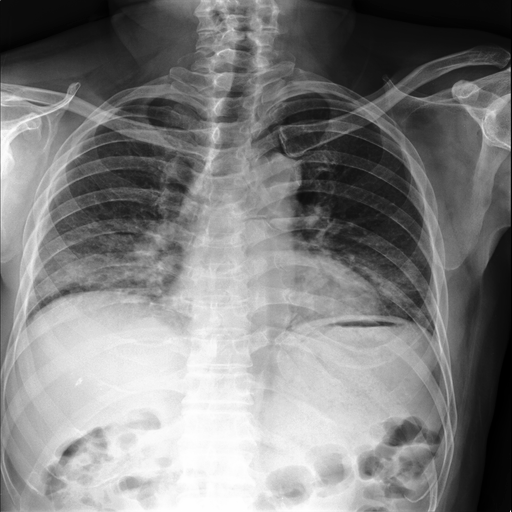Consolidation: (242, 154, 300, 194)
ILD: (29, 242, 173, 292)
Nodule/Mass: (167, 275, 389, 315)
Pleural thickening: (29, 242, 173, 292), (355, 251, 431, 320)
Pneumothorax: (43, 250, 156, 289)
